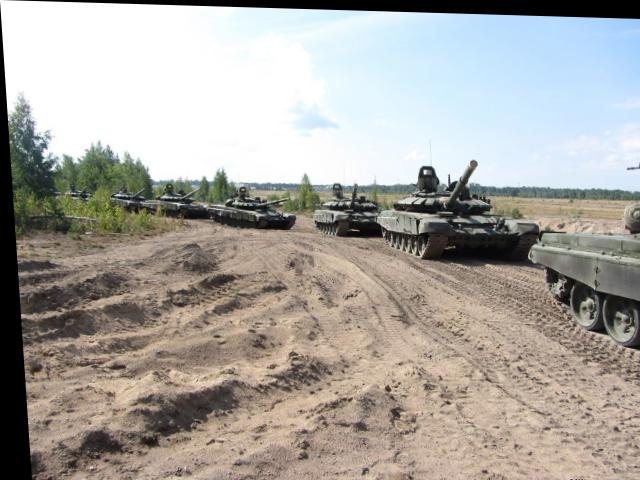tank: (525, 160, 640, 329), (373, 159, 529, 254), (308, 179, 375, 236), (205, 184, 292, 223), (139, 183, 202, 214), (107, 184, 139, 207)
